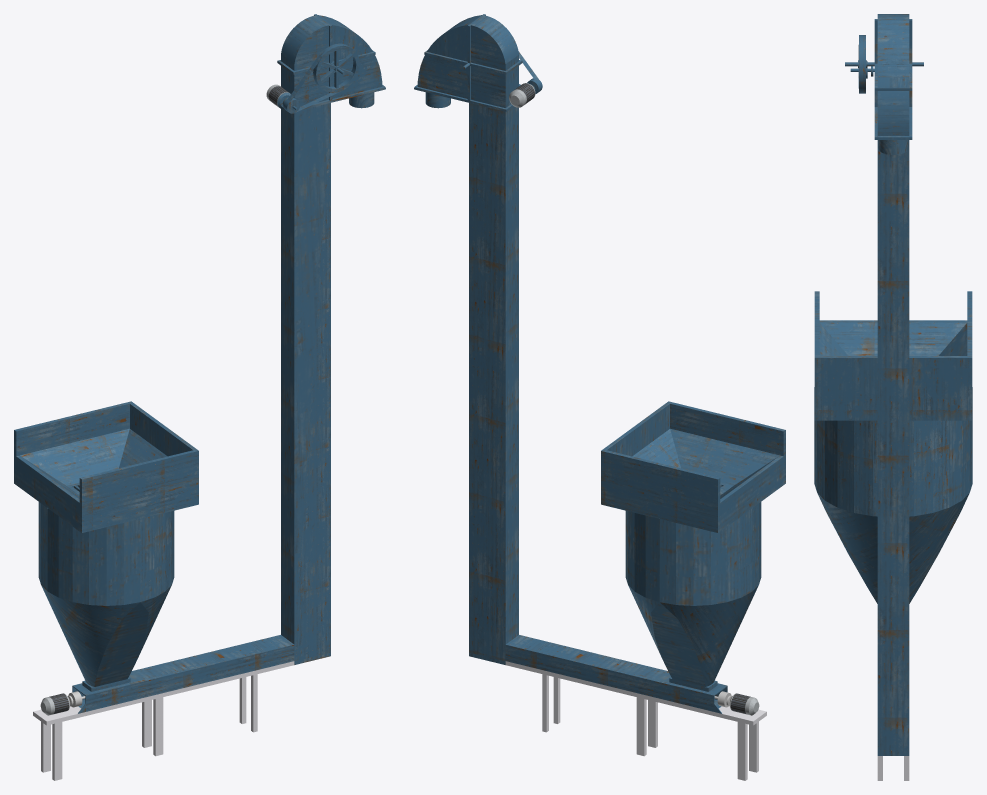
3 renders of one model, left to right at view 1: azimuth 30°, elevation 25°; view 2: azimuth 150°, elevation 25°; view 3: azimuth 270°, elevation 25°, orthographic. The views are drawn at different scales.
Visible parts, largest first — view 1: root.002, root.001, root.003; view 2: root.002, root.001, root.003; view 3: root.002, root.001, root.003.
Part boxes in pixels (x1,y1,x2,y2): root.002: [14, 14, 385, 713]; root.001: [38, 502, 174, 605]; root.003: [33, 661, 294, 780]; root.002: [414, 14, 785, 713]; root.001: [625, 502, 761, 605]; root.003: [505, 661, 766, 780]; root.002: [814, 14, 972, 755]; root.001: [814, 387, 972, 516]; root.003: [877, 756, 909, 780].
Bounding box in the file's own units: 4.61 × 8.98 × 1.6.
5 materials, 4 textured.
